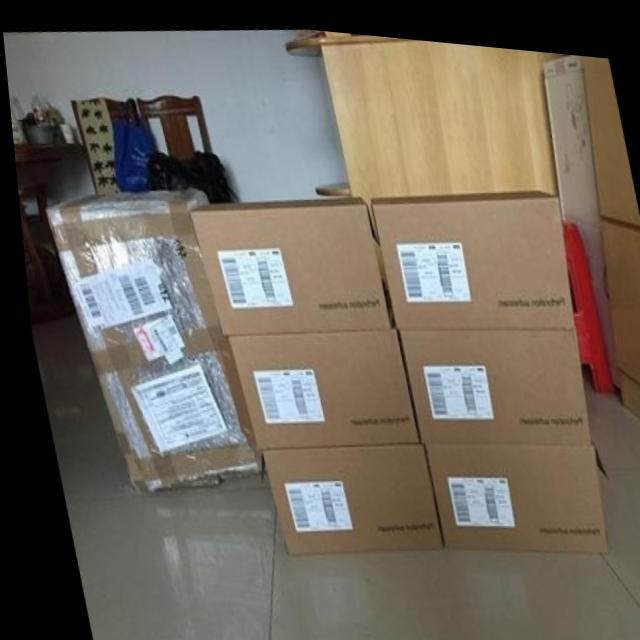box: (42, 183, 252, 486), (183, 185, 384, 332), (367, 179, 569, 321), (222, 321, 411, 444), (392, 316, 585, 434), (252, 434, 434, 548), (416, 431, 598, 541)
